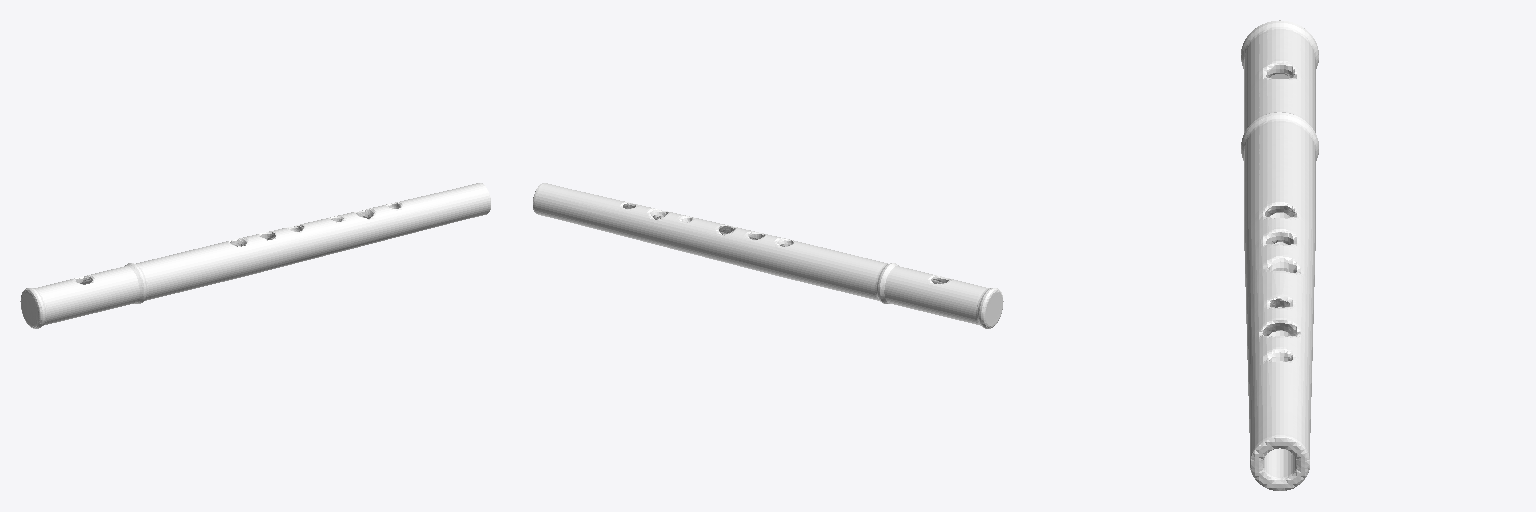
URDF robot description (custom):
<?xml version="1.0"?>
<robot name="custom">
  <material name="Blanc">
    <color rgba="1.0 1.0 1.0 1.0"/>
  </material>
  <link name="base_link">
    <visual>
      <origin xyz="0 0 0" rpy="0 0 0"/>
      <geometry>
        <mesh filename="use_flute.obj" scale="1 1 1"/>
      </geometry>
      <material name="Blanc"/>
    </visual>
    <collision>
      <origin xyz="0 0 0" rpy="0 0 0"/>
      <geometry>
	 	     <mesh filename="use_flute.obj" scale="1 1 1"/>
      </geometry>
    </collision>
    <contact>
      <lateral_friction value="5.0"/>
      <rolling_friction value="0.0001"/>
      <inertia_scaling value="3.0"/>
    </contact>
    <inertial>
      <origin rpy="0 0 0" xyz="0 0 0"/>
       <mass value="0.05"/>
       <inertia ixx="1" ixy="0" ixz="0" iyy="1" iyz="0" izz="1"/>
    </inertial>
  </link>

</robot>

--- Facts derived from the render (not from the file) ---
3 views of the same robot in one strip: view 1: azimuth 30°, elevation 25°; view 2: azimuth 150°, elevation 25°; view 3: azimuth 270°, elevation 25° (orthographic).
Robot: custom — 1 links, 0 joints (none); root link base_link; default pose: every joint at zero.
Links seen in each view (by area): view 1: base_link; view 2: base_link; view 3: base_link.
Link boxes in pixels (x1=…): base_link: x1=20, y1=183, x2=490, y2=328; base_link: x1=533, y1=183, x2=1003, y2=328; base_link: x1=1241, y1=20, x2=1318, y2=490.
Bounding box of the posed robot: 0.21 × 0.0169 × 0.0169 m (x, y, z).
Meshes: 1 distinct files referenced, 1 mesh visuals loaded (1 OBJ).
